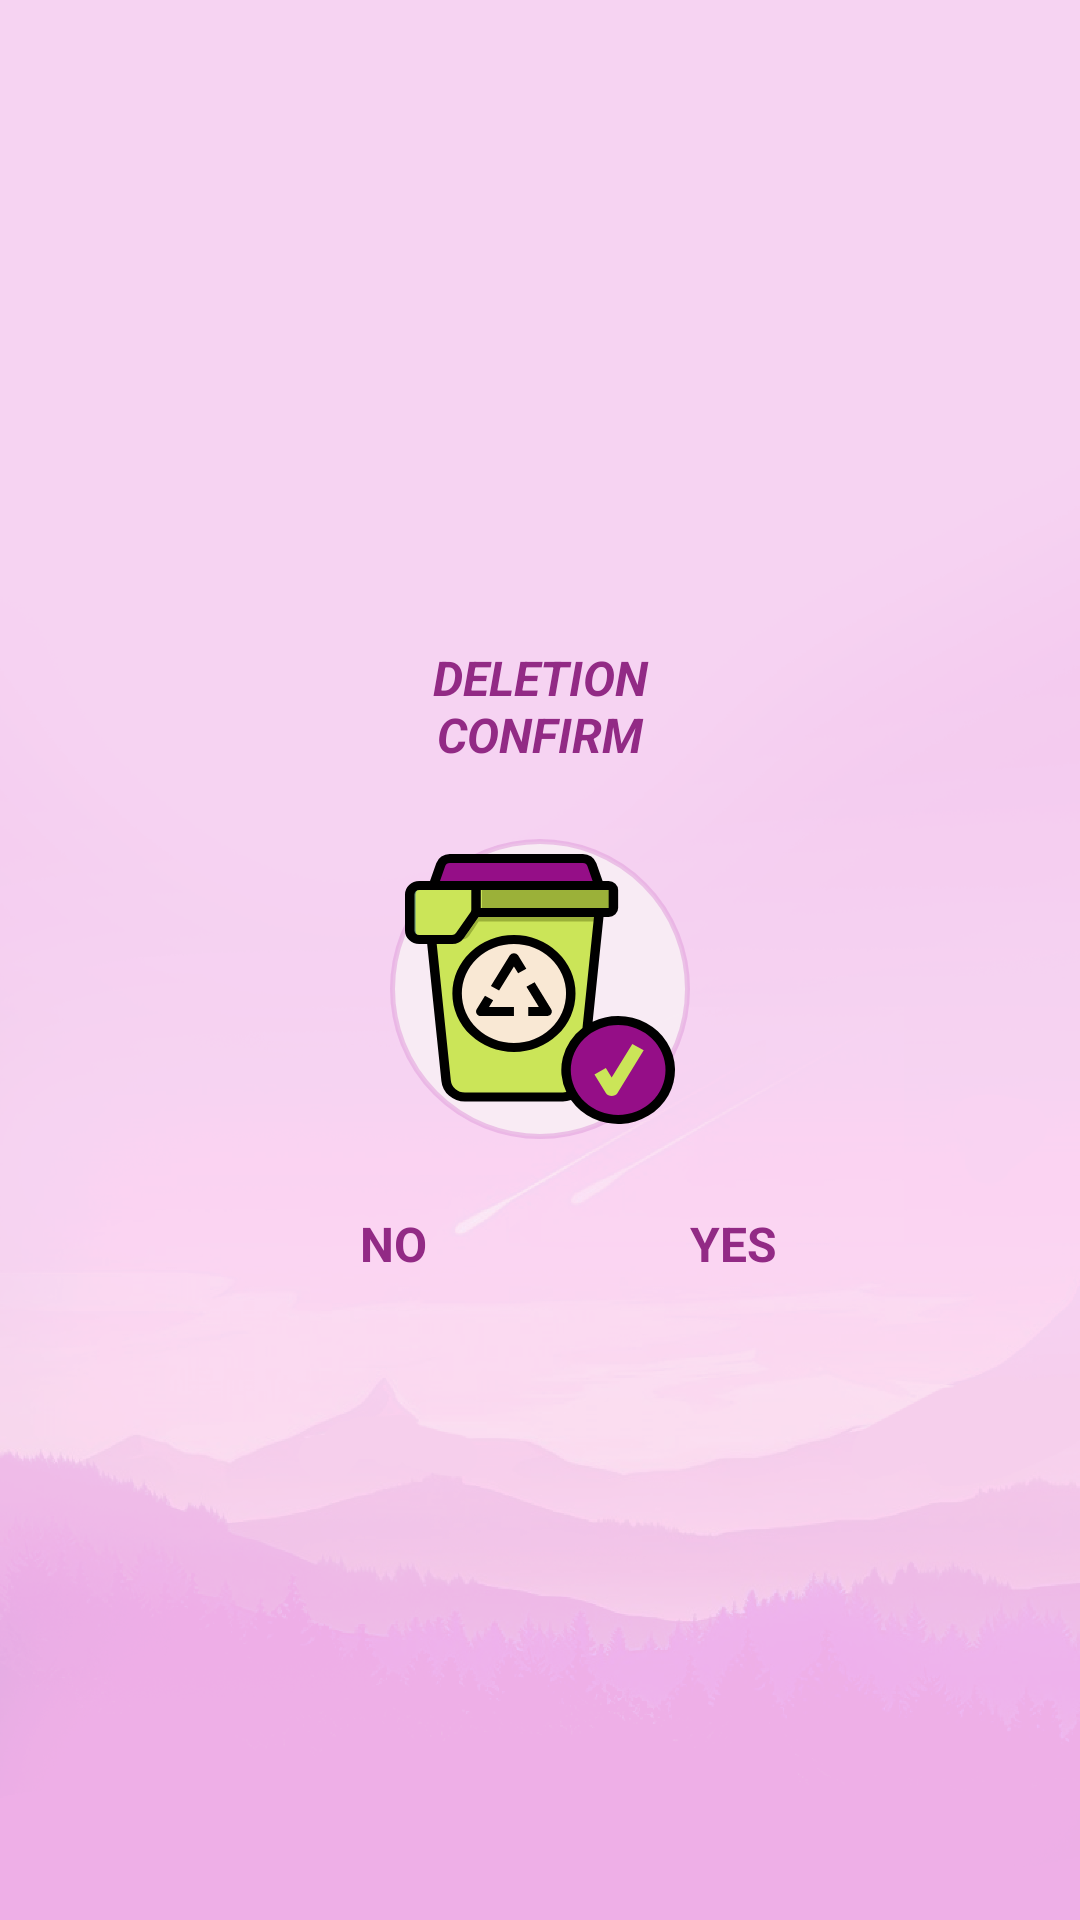

Icons on this 1080x1920 Android screen, each with its box as (x1,y1,x2,y2):
trash: (405,854,675,1124)
